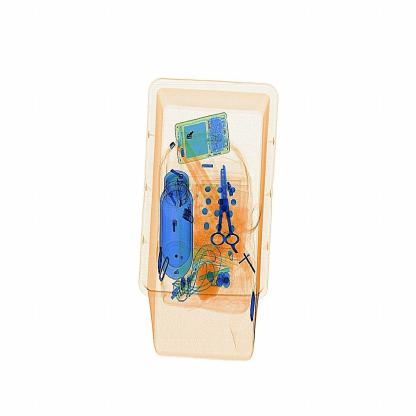gun: (207, 153, 247, 250)
